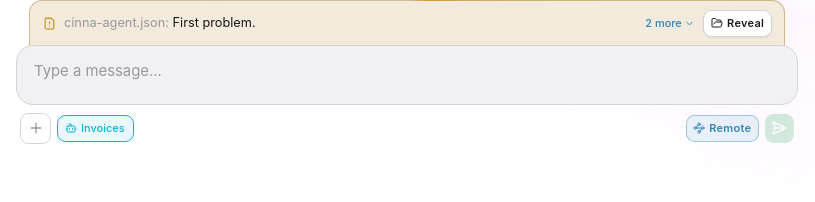
Test case: composer notice rows from the folder agent itself › lists a non-blocking folder’s findings, the rest behind “N more”, with Reveal on the first
This screenshot has width=815, height=202.
Expected: the text "First problem." is shown, [172,15,256,30]
Click the button "2 more". click: {"x": 670, "y": 23}
box: [645,15,695,31]
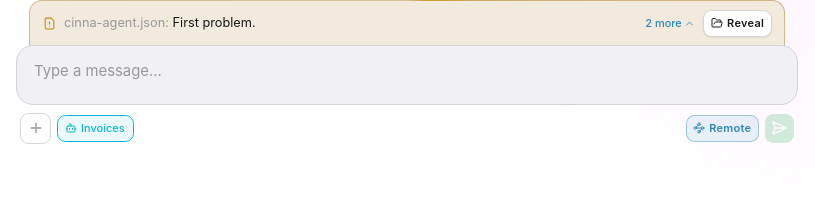
Click the button "Reveal". click: {"x": 738, "y": 23}
box: [704,10,772,36]
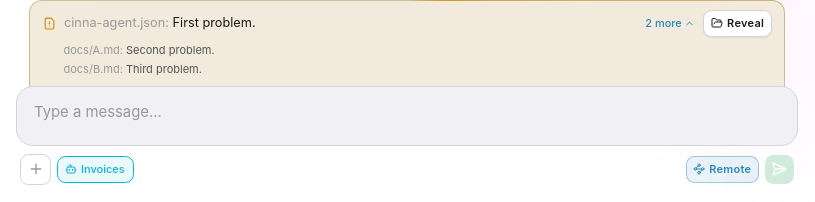
Type "hello" into the dropdown. click: {"x": 407, "y": 112}
box: [17,87,797,137]
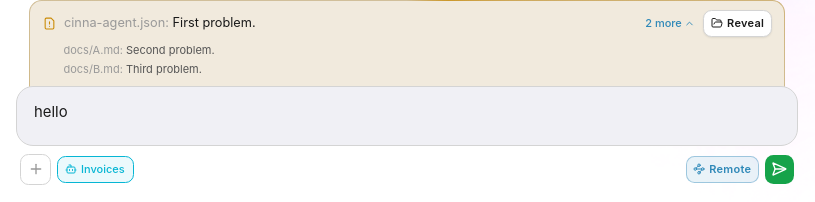
Expected: the button named "Send" is enabled, [765,155,794,184]
